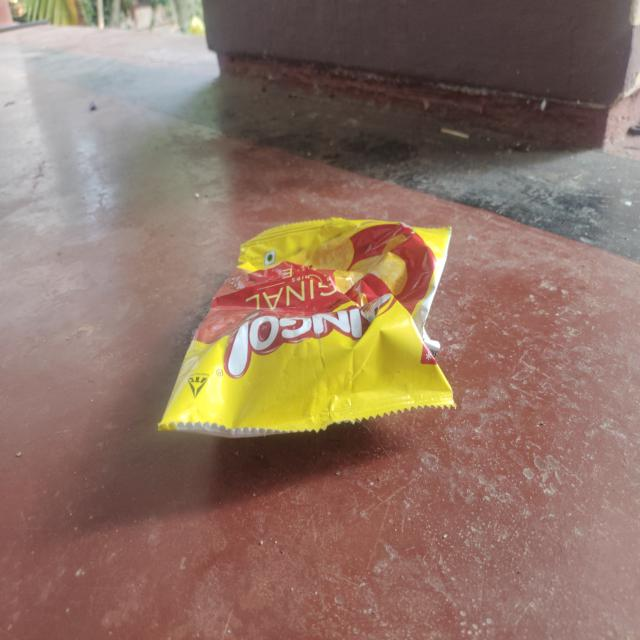plastic: (160, 218, 458, 439)
